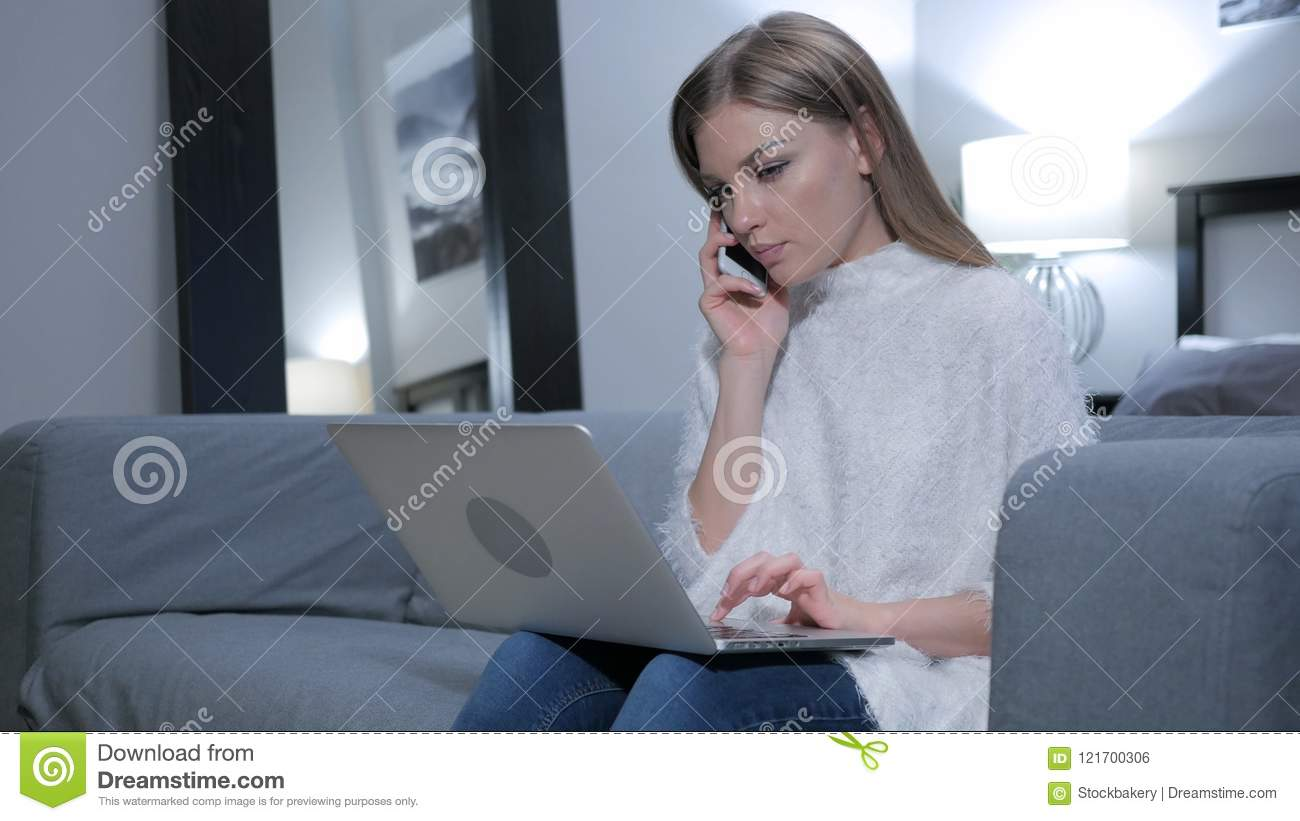phone: (718, 221, 774, 300)
talk: (697, 135, 821, 371)
